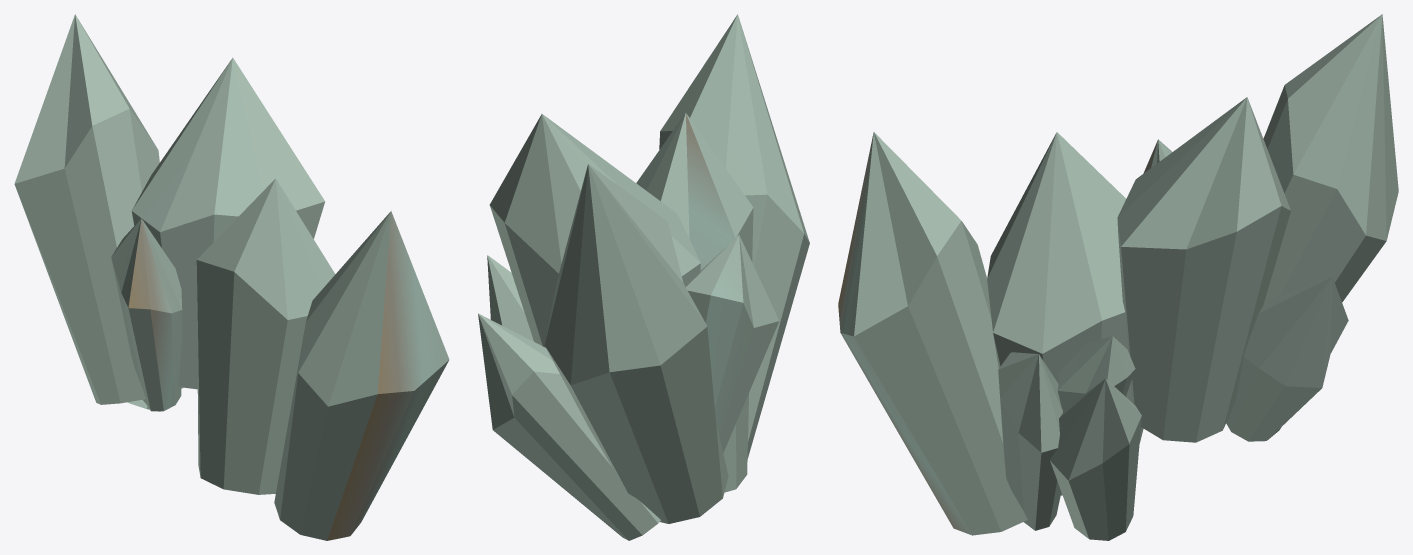
Rendered from SM_Rock_cristalls.fbx.
3 renders of one model, left to right at view 1: azimuth 30°, elevation 25°; view 2: azimuth 150°, elevation 25°; view 3: azimuth 270°, elevation 25°, orthographic. The views are drawn at different scales.
Parts seen in each view (by area): view 1: SM_Crystalls; view 2: SM_Crystalls; view 3: SM_Crystalls.
Boxes of the visible parts, box(x1,y1,x2,y2) form: SM_Crystalls: box(14, 14, 449, 540); SM_Crystalls: box(478, 14, 809, 540); SM_Crystalls: box(838, 14, 1398, 540).
Bounding box in the file's own units: 0.4399 × 0.5958 × 0.6455.
Materials: 1 (1 with a texture image).
